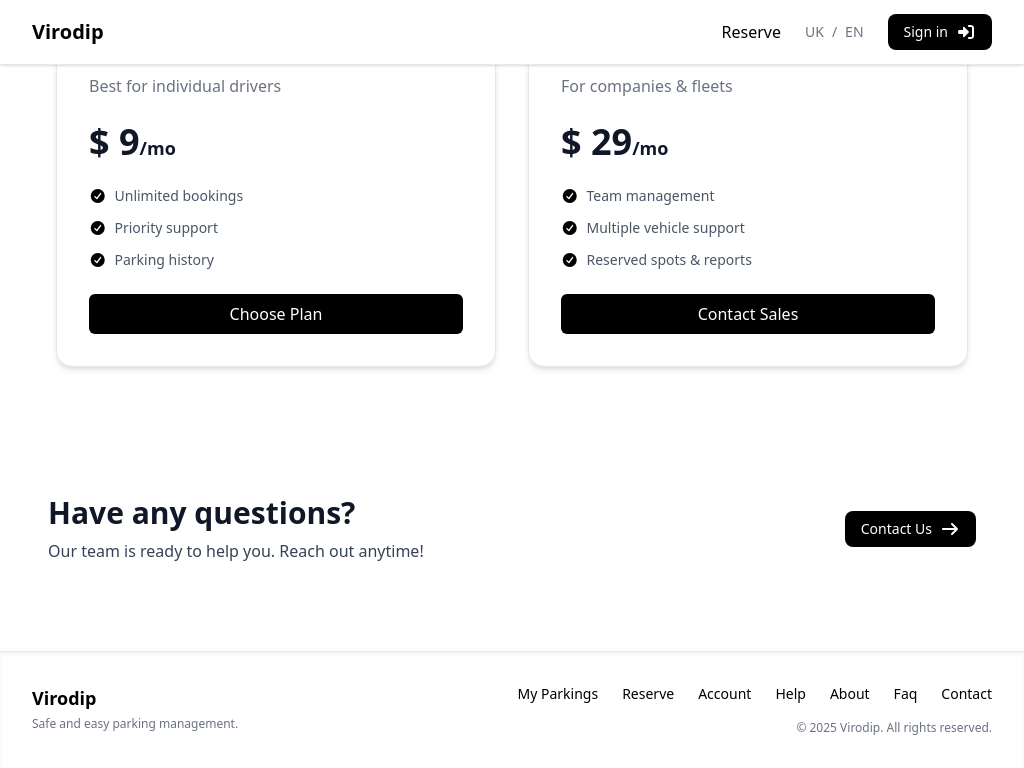
Scenario: Contact Us button › navigates to /contact and shows the form
(page scrolled)
Click the button with test id "contact-us-btn".
click(911, 529)  # box [845,511,976,547]
(page scrolled)
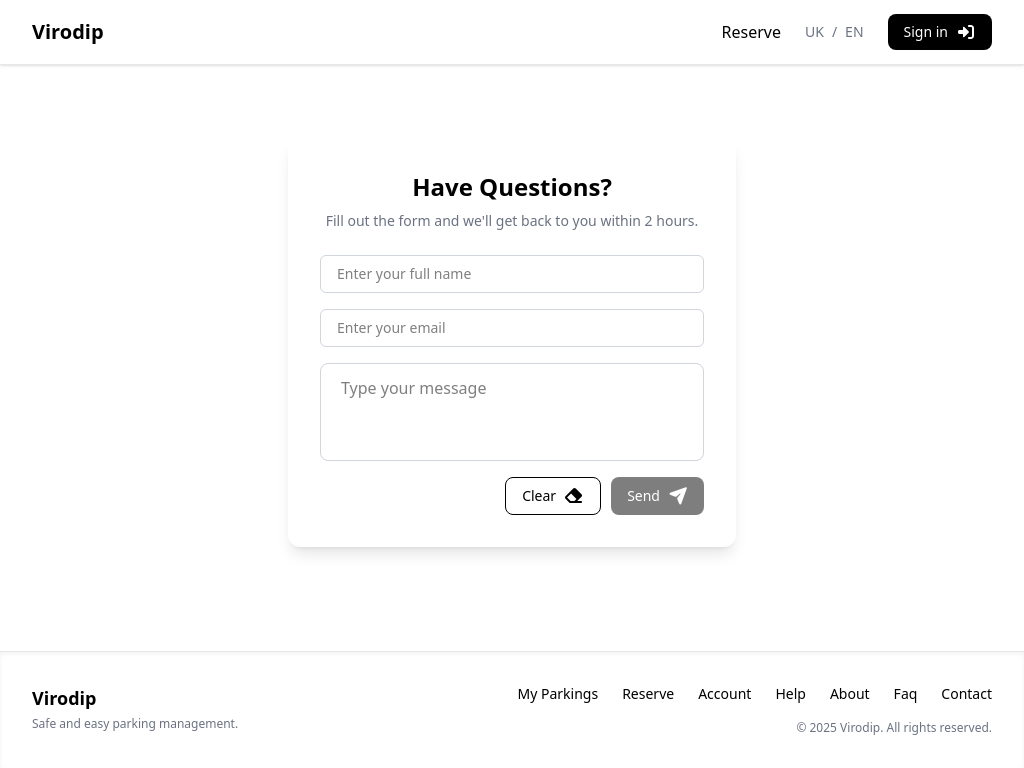
Expected: the form with test id "contact-form" is shown, [320,255,704,515]
Expected: the field with test id "contact-name" is shown, [320,255,704,293]
Expected: the field with test id "contact-email" is shown, [320,309,704,347]
